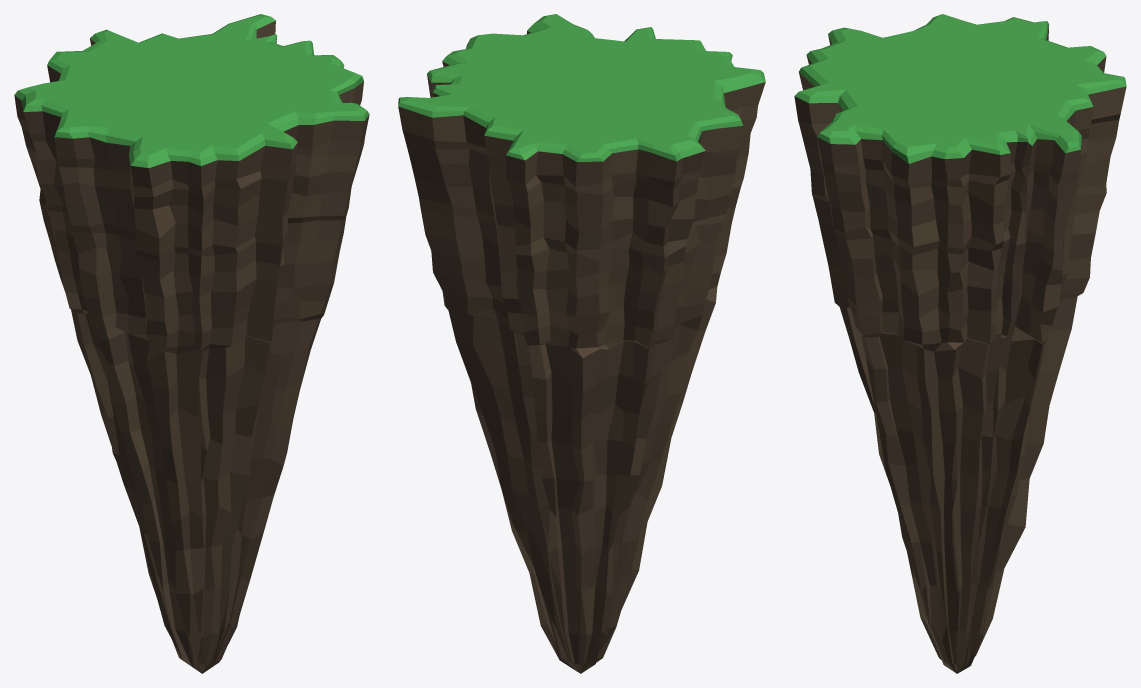
Rendered from CliffMain.fbx.
3 views of the same model, side by side, from view 1: azimuth 30°, elevation 25°; view 2: azimuth 150°, elevation 25°; view 3: azimuth 270°, elevation 25° (orthographic).
Visible parts, largest first — view 1: Cliff_Main; view 2: Cliff_Main; view 3: Cliff_Main.
Boxes of the visible parts, <box> form: Cliff_Main: <box>14,14,369,673</box>; Cliff_Main: <box>398,14,765,673</box>; Cliff_Main: <box>794,14,1126,673</box>.
Bounding box in the file's own units: 3150 × 6052 × 3093.
